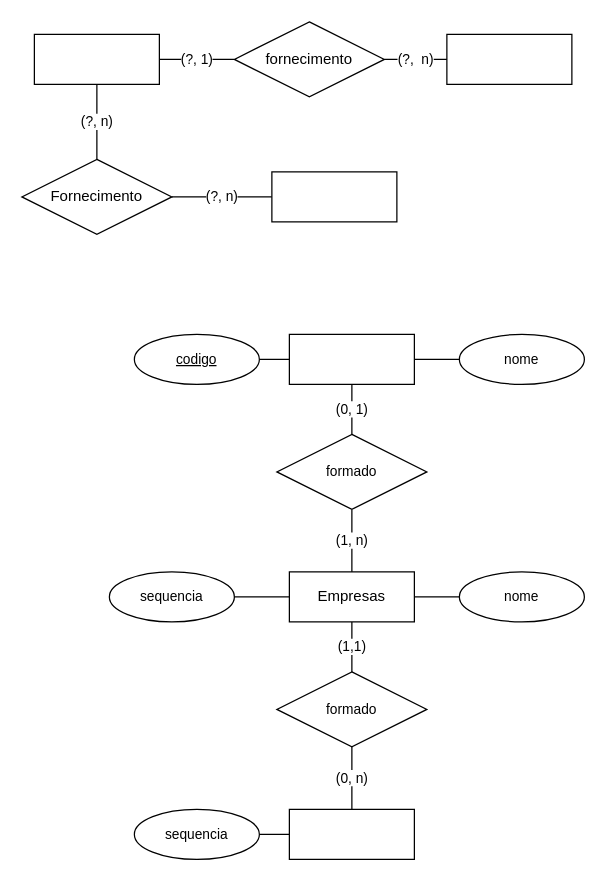
The diagram is 606 pixels wide and 881 high, and some of its shapes have lost their labels. The shapes that lost their labels are listed below. From the top down, each one's box as (x1, y1, x2, y2) in pixels, then its label:
(33, 33, 159, 84): Fornecedor
(446, 33, 572, 84): Peças
(271, 171, 397, 222): Cidade
(288, 333, 414, 384): Grupo
(288, 808, 414, 859): Filiais
